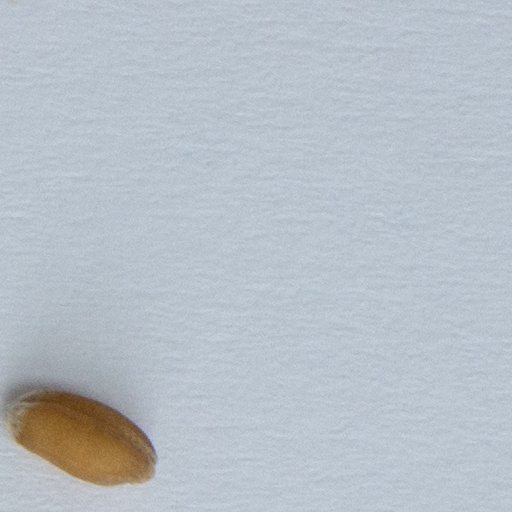Wheat-grain-poly: (9, 390, 158, 485)
